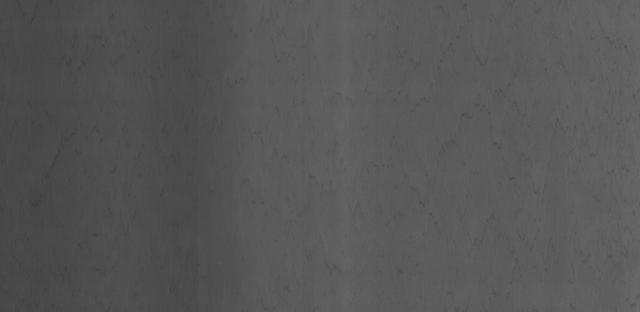silk_spot: (452, 89, 598, 269)
